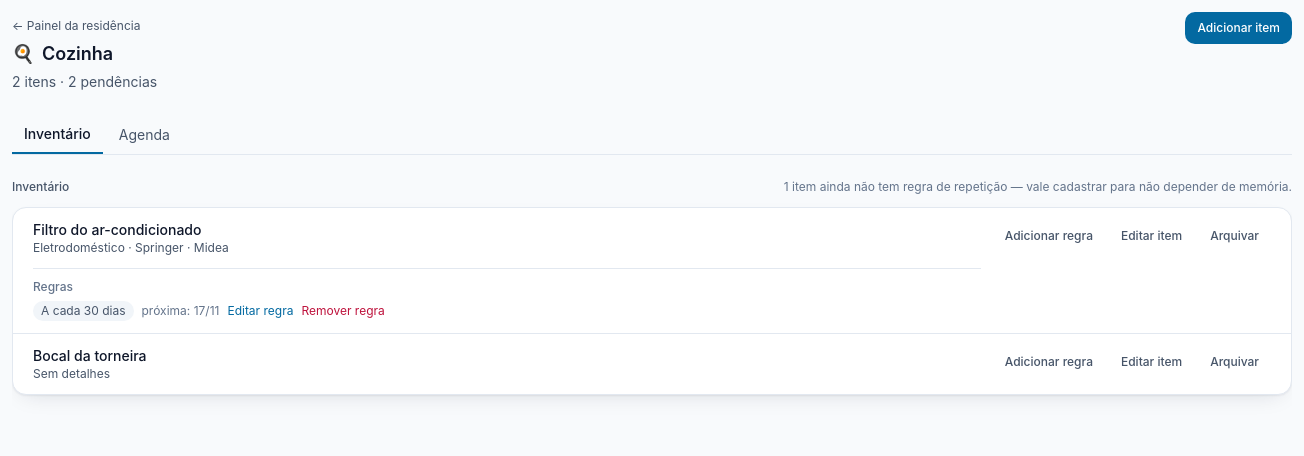
Test: RoomPage › mostra a pendência mais próxima com o check-in
Step 1. Click the button "Agenda" → click(144, 135), box left=107, top=116, right=182, bottom=154
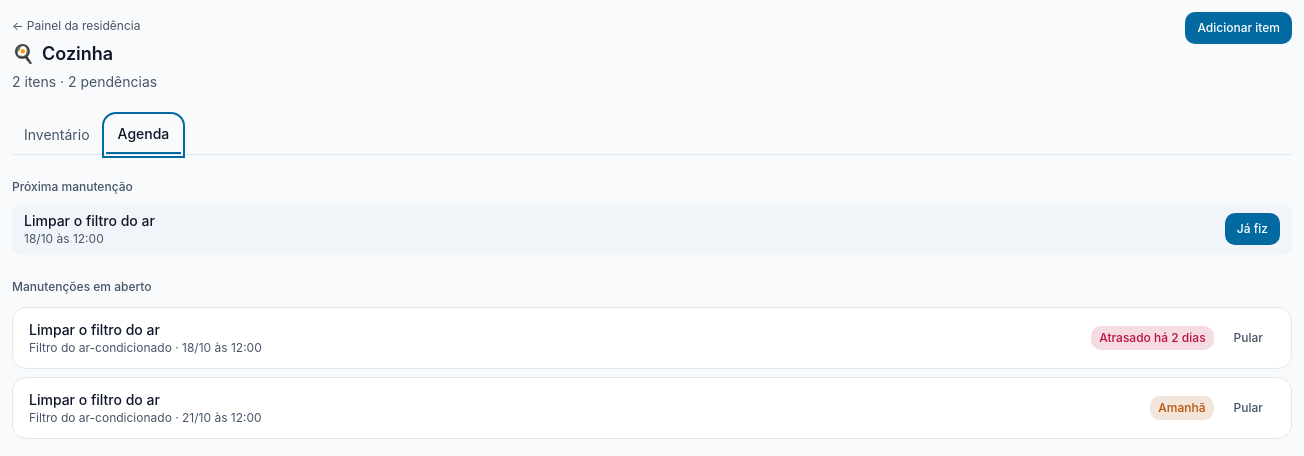
Check: the 1st list item shows "Atrasado há 2 dias", box left=1099, top=330, right=1206, bottom=345
Check: the 2nd list item shows "Amanhã", box left=1158, top=400, right=1206, bottom=415
Check: the button "Já fiz" is shown, box left=1225, top=213, right=1280, bottom=245
